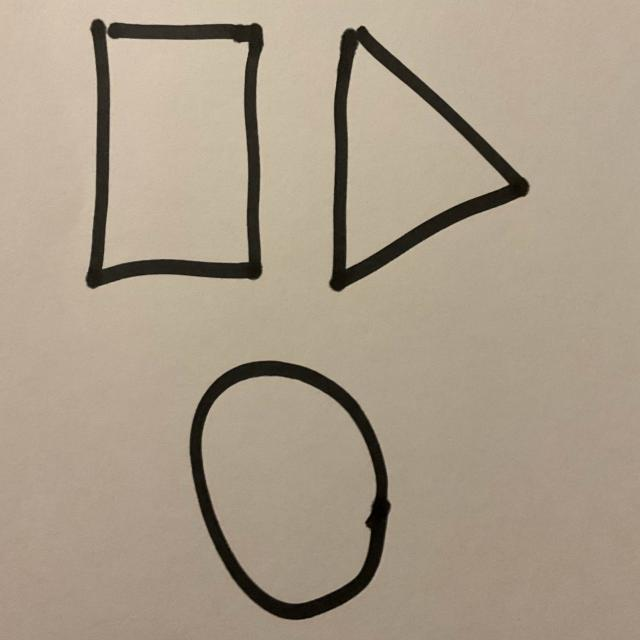Dreieck: (329, 27, 530, 294)
Kreis: (188, 361, 391, 623)
Quadrat: (84, 21, 265, 291)
